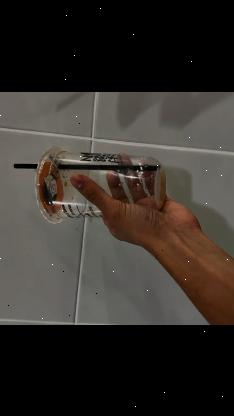Others: (36, 145, 166, 223)
